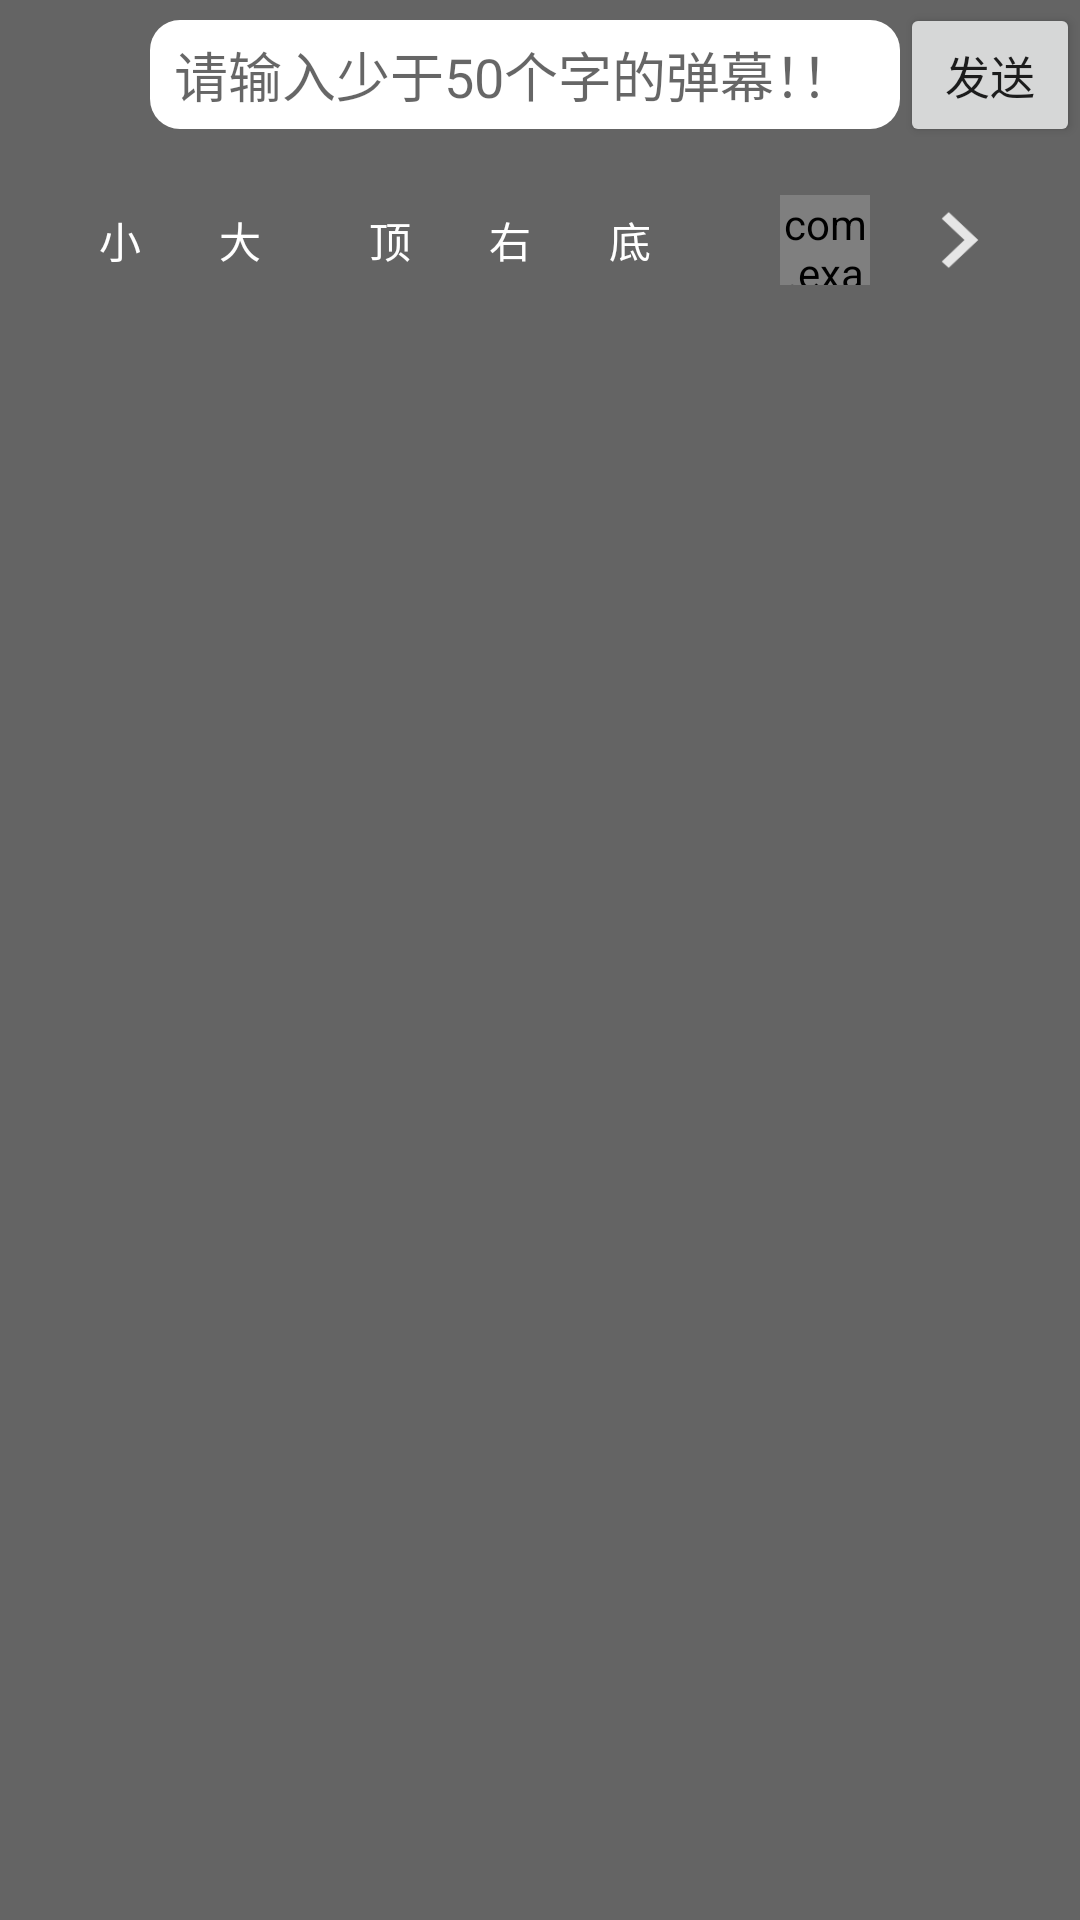

Locate icon controls on the screen. Image size 1080×1920, boxes as (x1, y1, x2, y2).
jianto: (942, 212, 978, 268)
